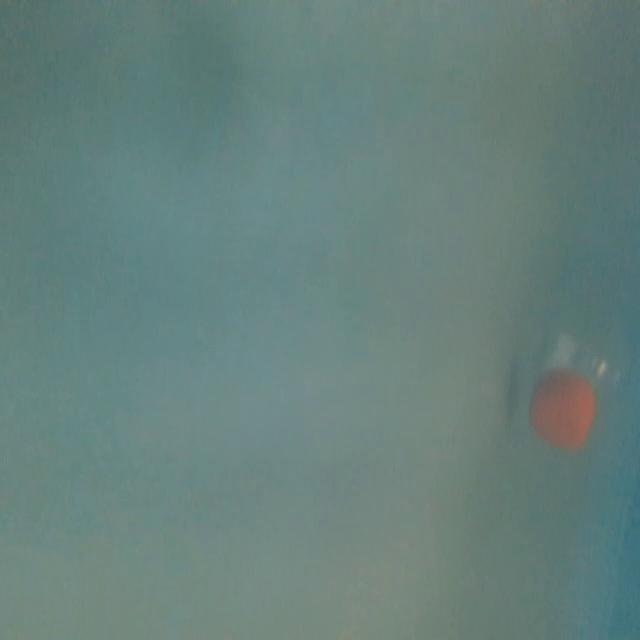plastic bottle: (501, 109, 640, 468)
